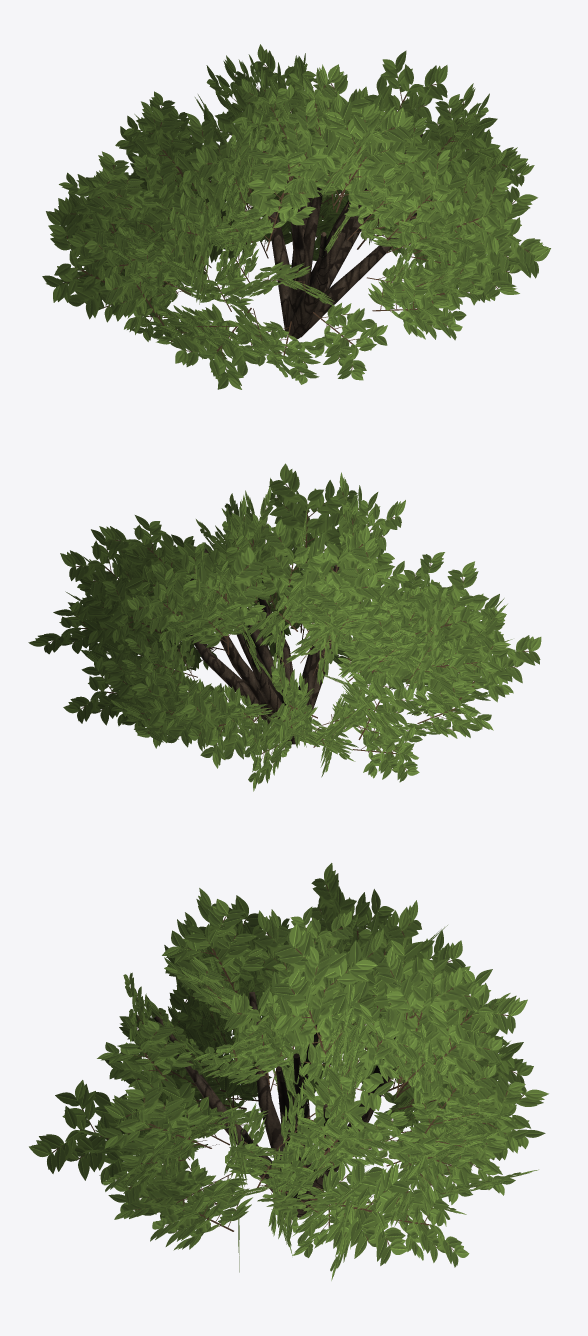
Rendered from costa_arbusto_c.glb.
3 views of the same model, one above another, from view 1: azimuth 30°, elevation 25°; view 2: azimuth 150°, elevation 25°; view 3: azimuth 270°, elevation 25° (orthographic). The views are drawn at different scales.
Parts seen in each view (by area): view 1: costa_arbusto_c_folhas, costa_arbusto_c_tronco; view 2: costa_arbusto_c_folhas, costa_arbusto_c_tronco; view 3: costa_arbusto_c_folhas, costa_arbusto_c_tronco.
Part boxes in pixels (x1=…): costa_arbusto_c_folhas: x1=42, y1=44, x2=550, y2=389; costa_arbusto_c_tronco: x1=268, y1=127, x2=432, y2=338; costa_arbusto_c_folhas: x1=28, y1=463, x2=541, y2=791; costa_arbusto_c_tronco: x1=152, y1=549, x2=378, y2=744; costa_arbusto_c_folhas: x1=29, y1=863, x2=548, y2=1280; costa_arbusto_c_tronco: x1=154, y1=992, x2=395, y2=1217.
Size of the model in its own units: 2.67 by 1.44 by 2.16.
Materials: 2 (2 with a texture image).
